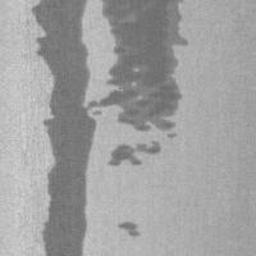Water spot: (29, 0, 191, 256), (105, 140, 164, 168), (116, 220, 142, 238)
